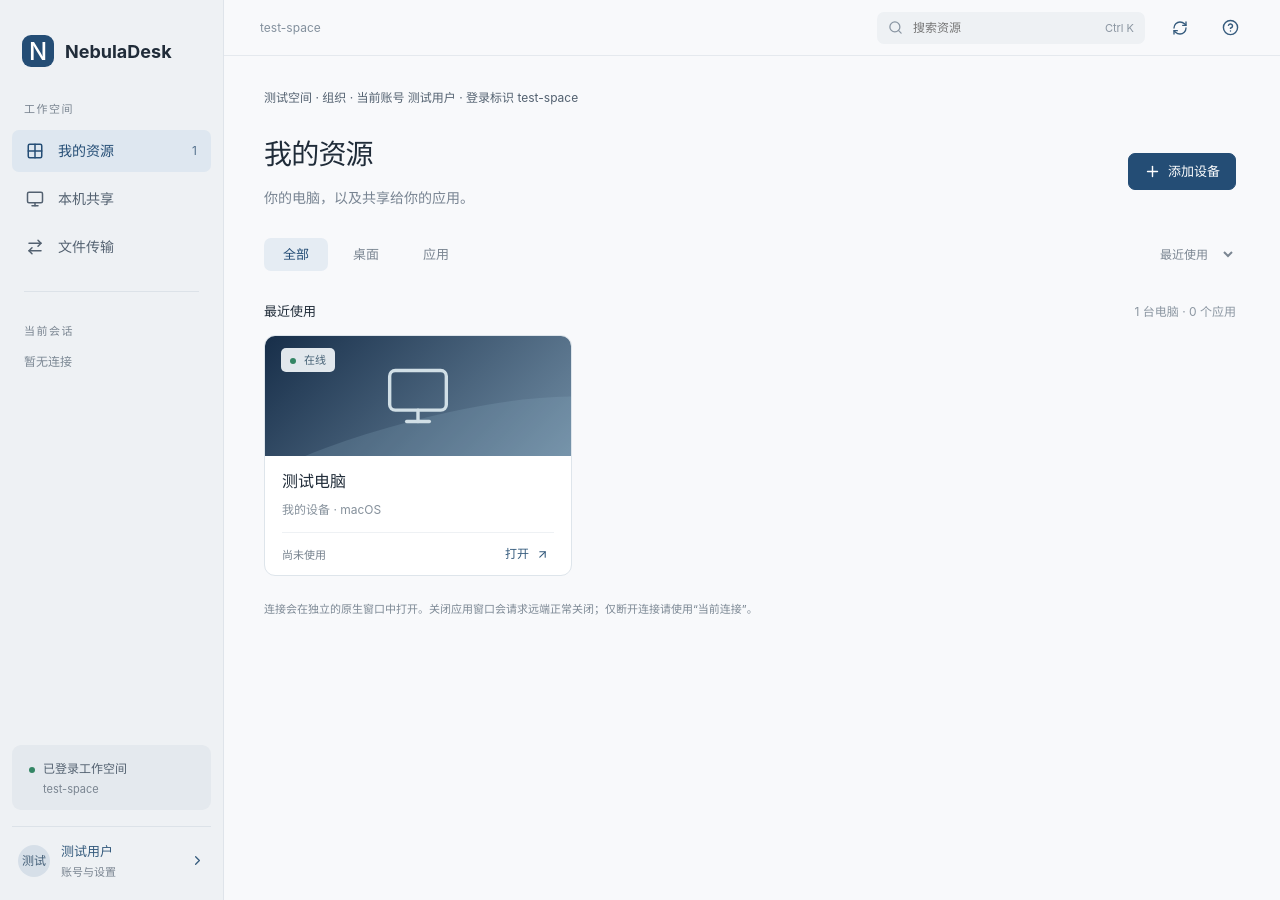
desktop presentation and actions › uses typed resource/connect commands and displays failed connection errors
Step 1. Click the button "打开" → [527, 554], box left=500, top=541, right=554, bottom=567
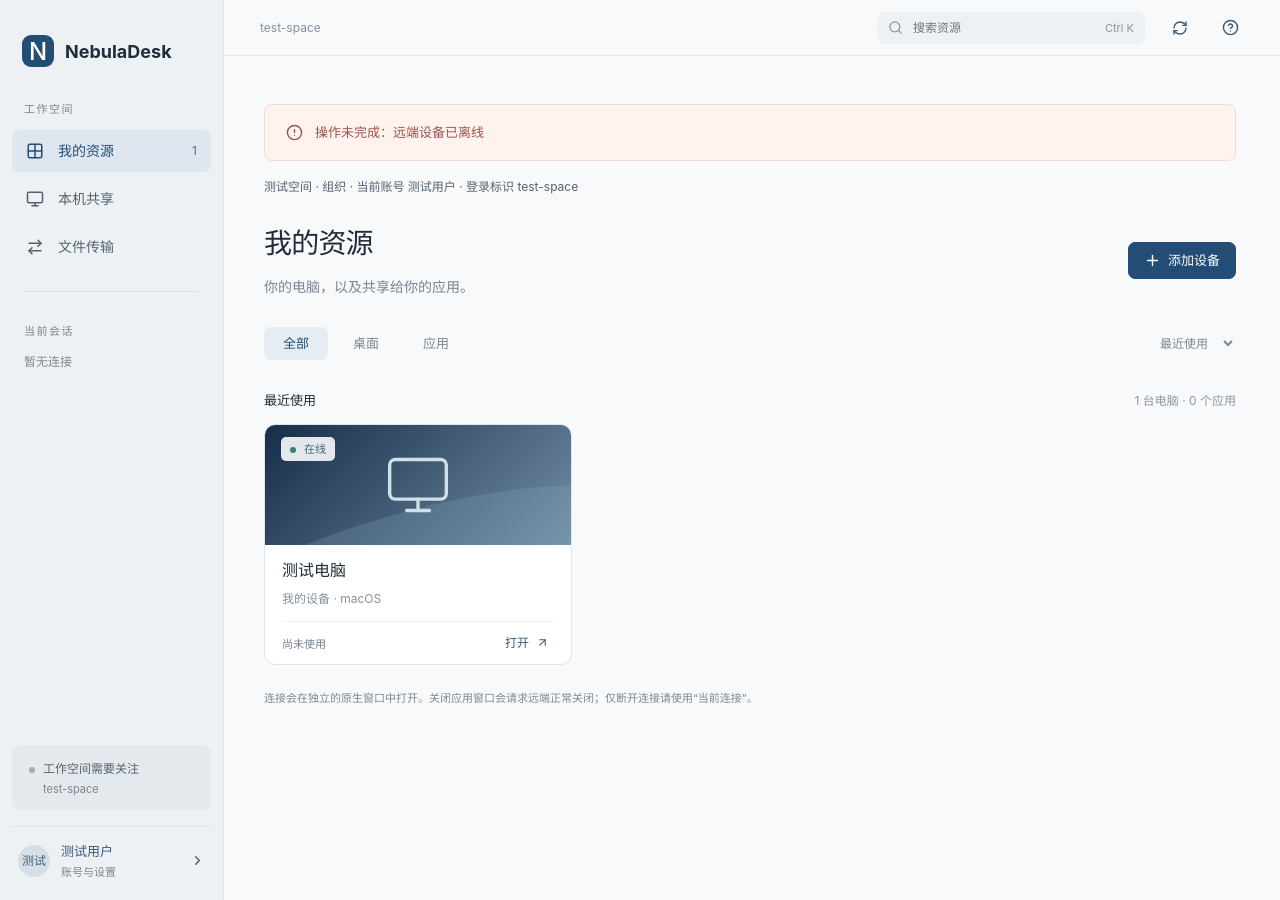
Check: the message shows "远端设备已离线", box left=315, top=124, right=484, bottom=140
